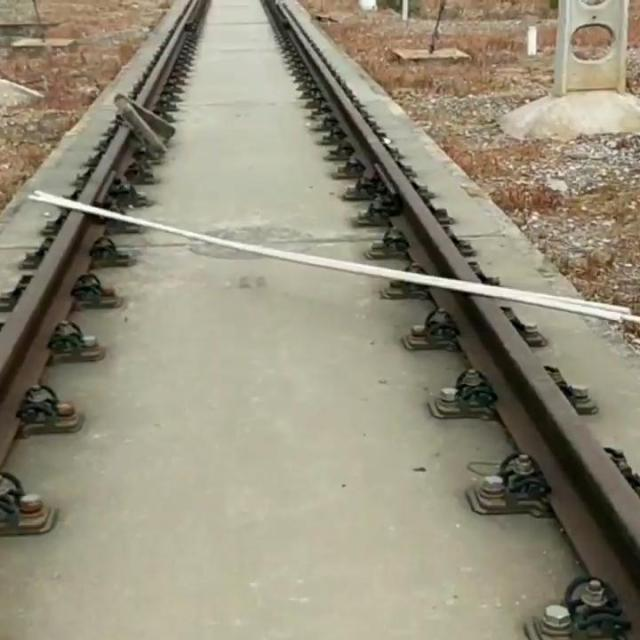danger: (15, 180, 640, 333), (104, 83, 181, 171)
rail: (434, 289, 640, 612), (264, 0, 478, 282), (0, 212, 100, 466), (137, 0, 207, 107), (78, 126, 129, 204)
